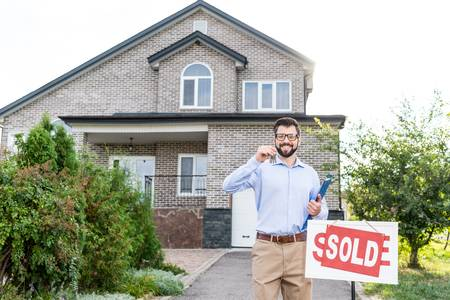F_shirt: (224, 156, 329, 238)
